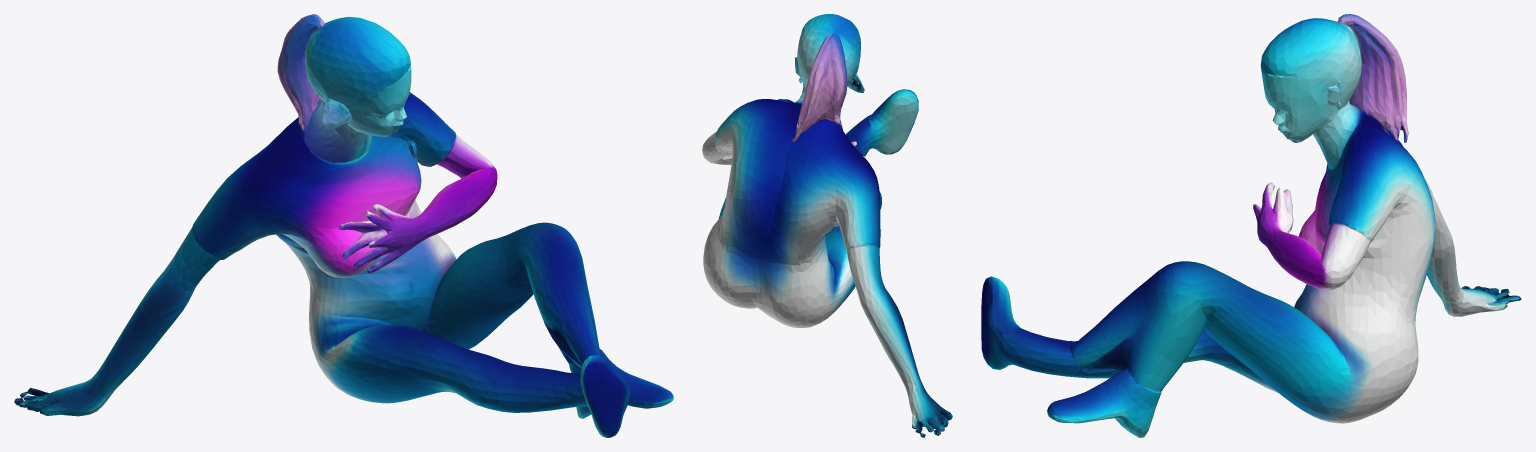
File: DOLOR.glb
The picture shows the model from 3 angles, left to right: view 1: azimuth 30°, elevation 25°; view 2: azimuth 150°, elevation 25°; view 3: azimuth 270°, elevation 25°; orthographic projection. The views are drawn at different scales.
Parts seen in each view (by area): view 1: world; view 2: world; view 3: world.
Boxes of the visible parts, x1,y1,x2,y2 form: world: (14,14,673,437); world: (702,14,952,437); world: (981,14,1521,437).
Bounding box in the file's own units: 0.8685 × 0.7778 × 0.9885.
Materials: 1 (1 with a texture image).
